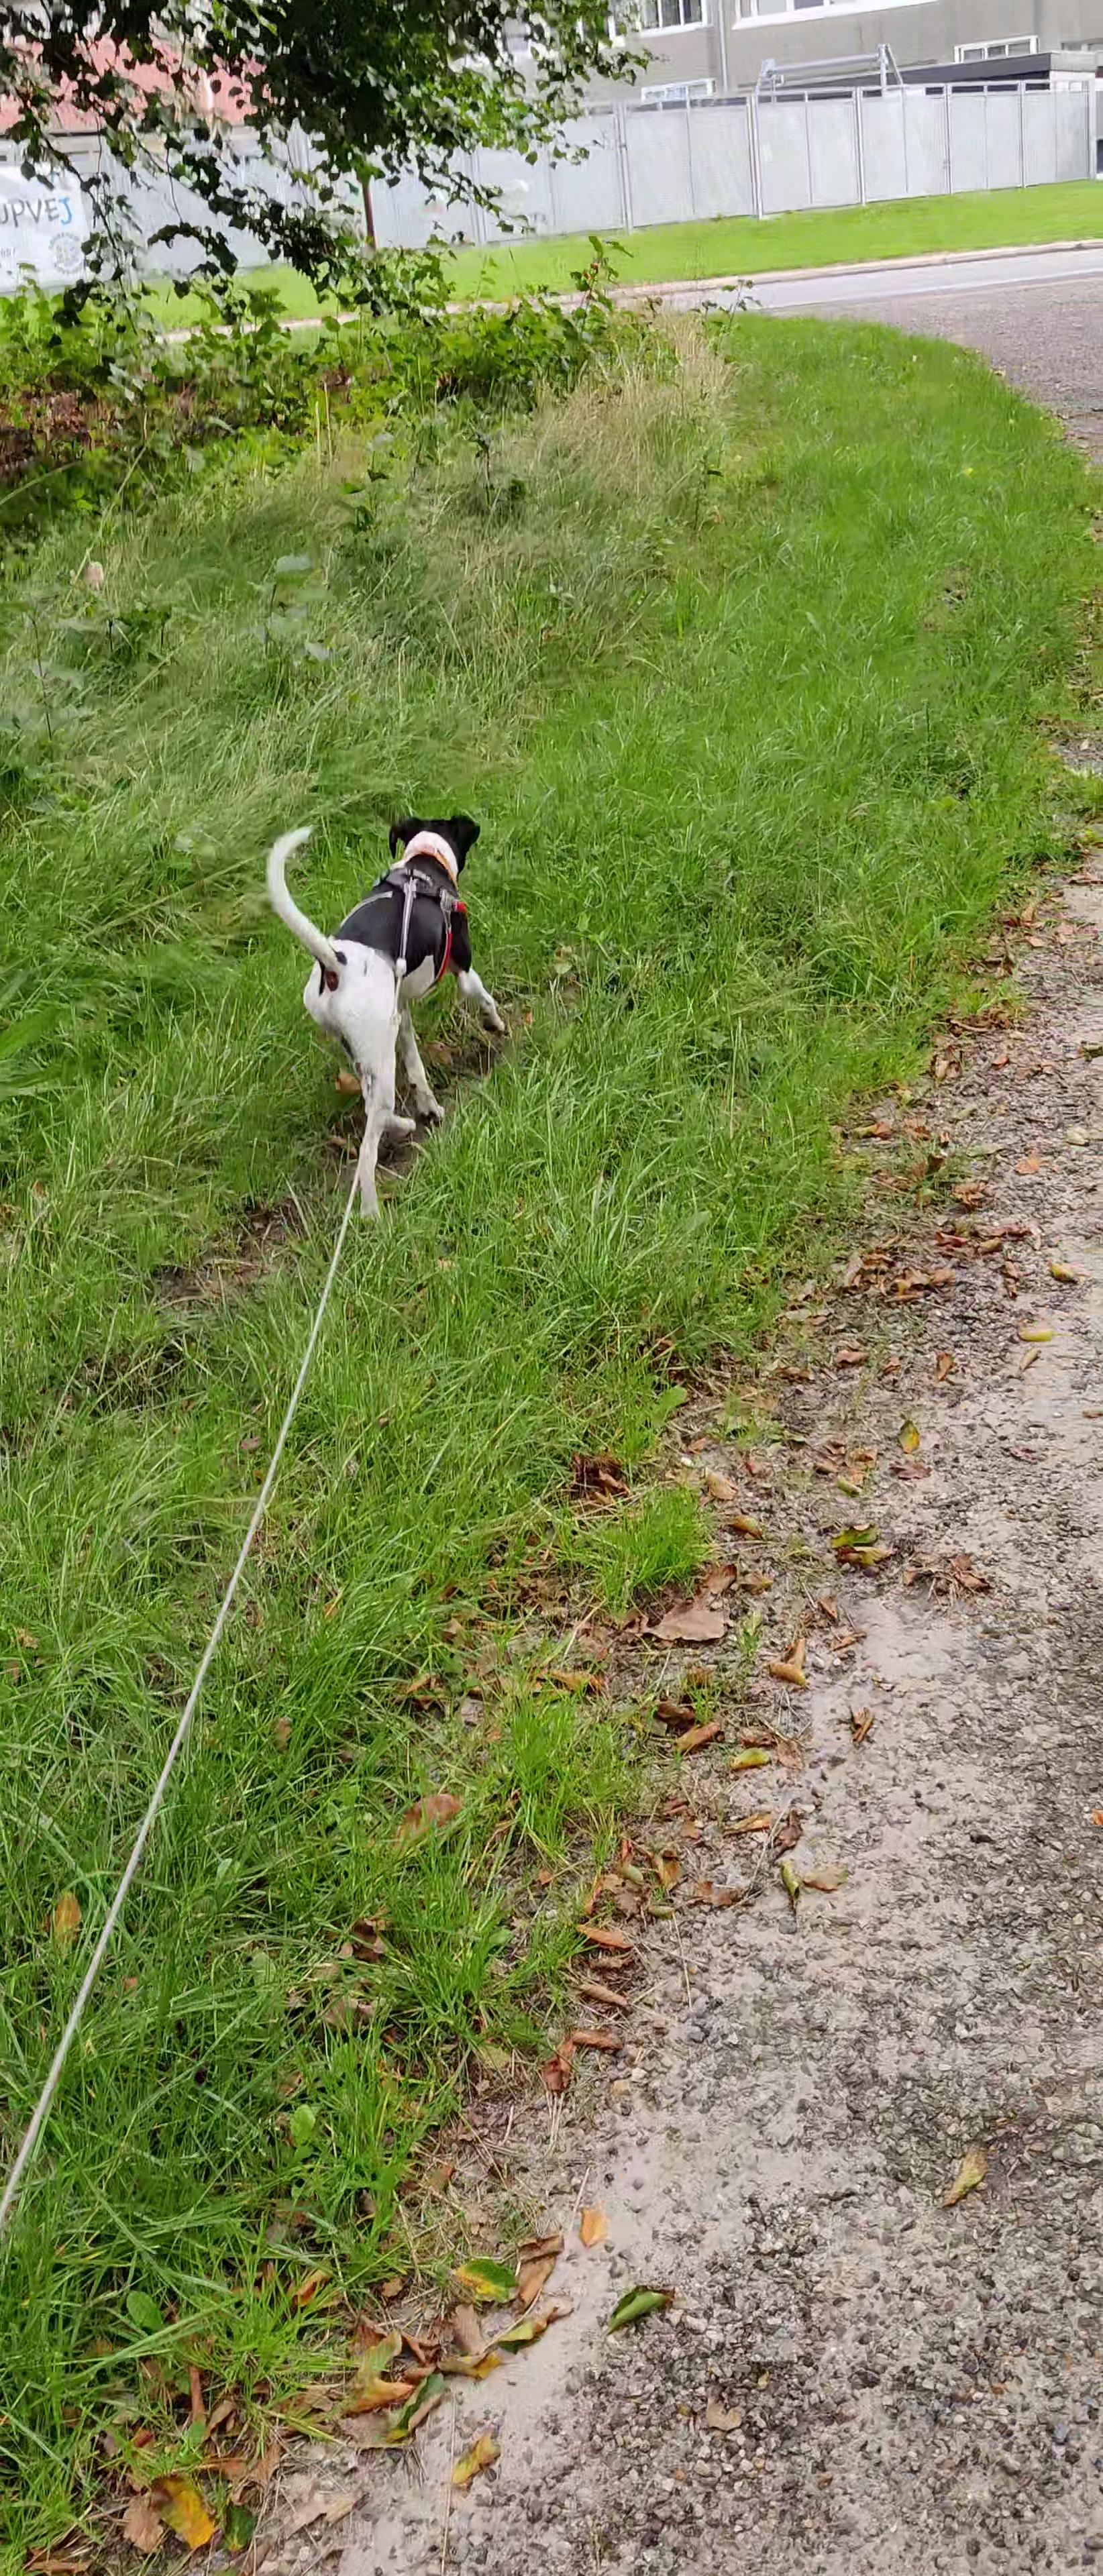Dog: (258, 805, 508, 1226)
